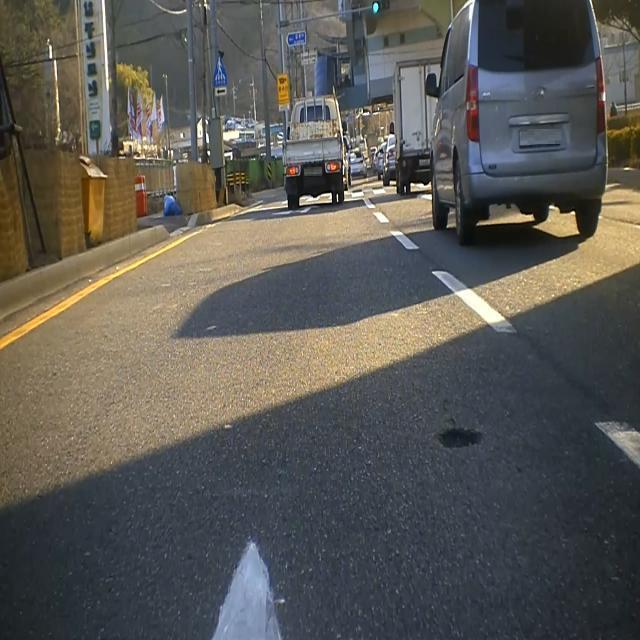pothole: (436, 417, 483, 460)
